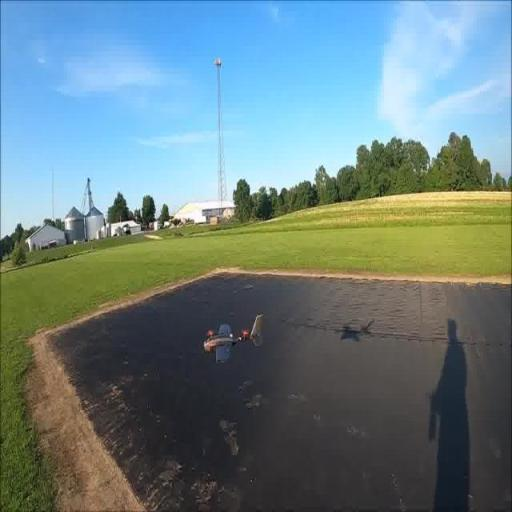uav: (200, 302, 264, 372)
